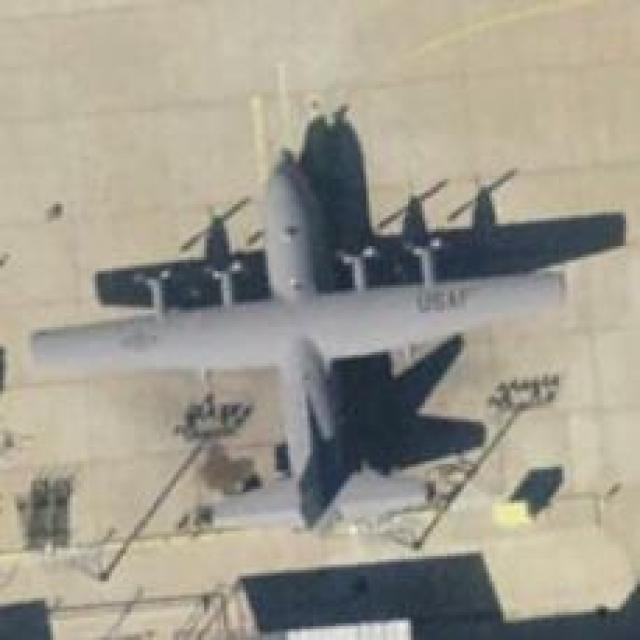C-130_TopDown: (25, 108, 627, 536)
